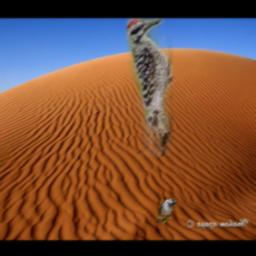Sparrow: (155, 197, 176, 223)
Woodpecker: (126, 18, 171, 157)
